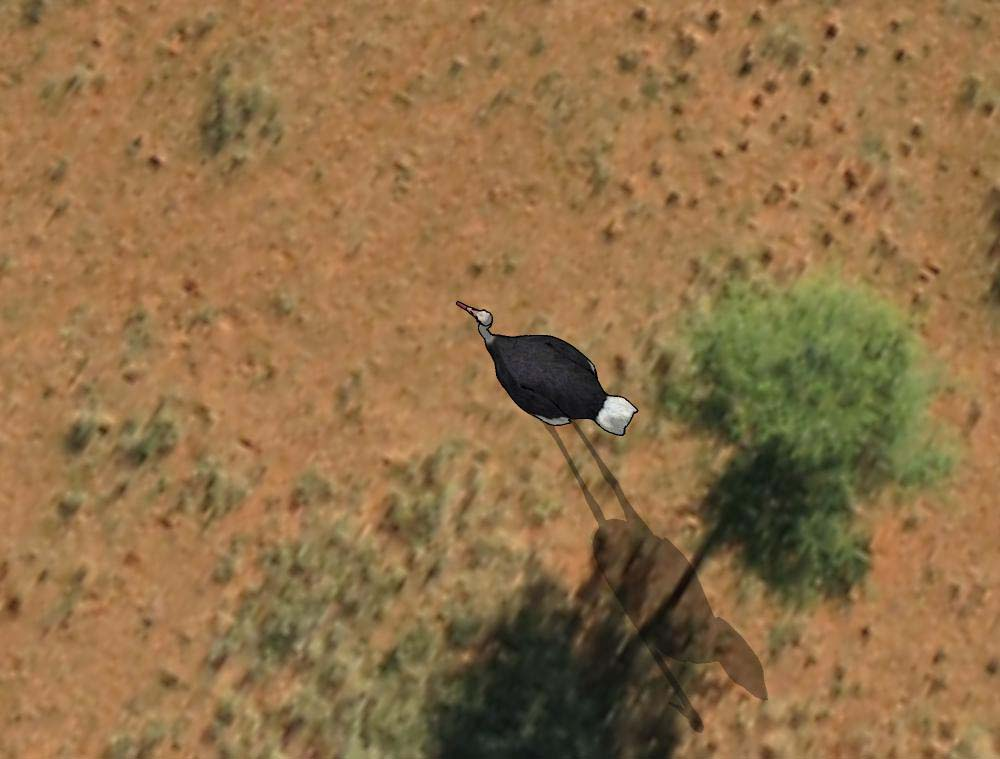springbok: (453, 293, 640, 443)
